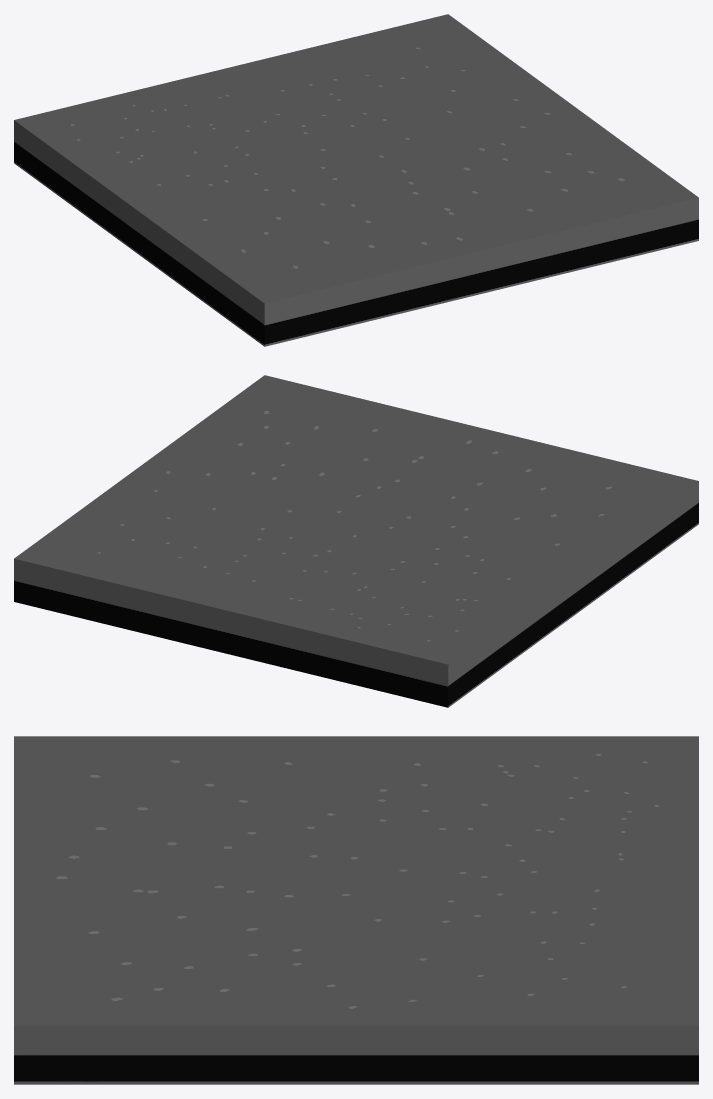
Rendered from road.fbx.
3 views of the same model, one above another, from view 1: azimuth 30°, elevation 25°; view 2: azimuth 150°, elevation 25°; view 3: azimuth 270°, elevation 25° (orthographic). The views are drawn at different scales.
Visible parts, largest first — view 1: road; view 2: road; view 3: road.
Boxes of the visible parts, x1,y1,x2,y2 form: road: (14, 14, 698, 346); road: (14, 375, 698, 707); road: (14, 736, 698, 1084).
Bounding box in the file's own units: 2 × 0.1904 × 2.
1 material, 1 textured.
